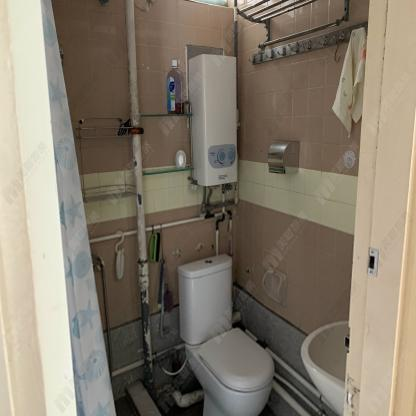Toilet: (178, 253, 277, 416)
Toilet Sink: (301, 320, 349, 416)
Water Heater: (188, 53, 238, 185)
